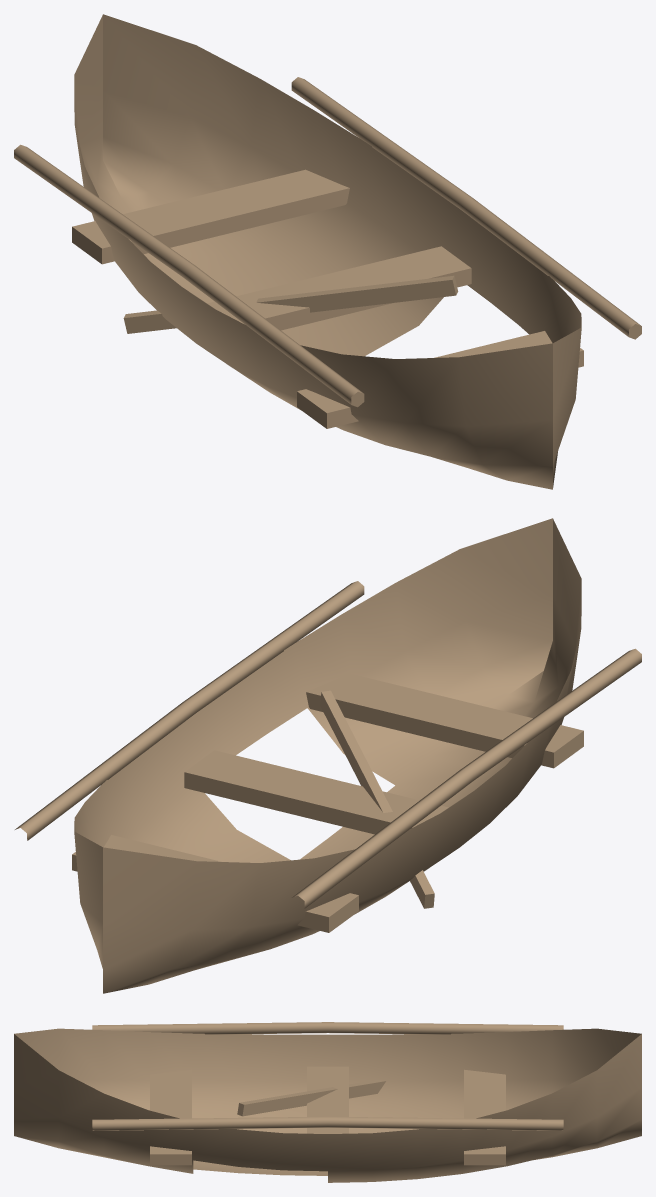
Rendered from boat_damaged.glb.
3 views of the same model, one above another, from view 1: azimuth 30°, elevation 25°; view 2: azimuth 150°, elevation 25°; view 3: azimuth 270°, elevation 25° (orthographic). The views are drawn at different scales.
Parts seen in each view (by area): view 1: Boat; view 2: Boat; view 3: Boat.
Part boxes in pixels (left/top/right/bottom): Boat: left=14, top=14, right=641, bottom=489; Boat: left=15, top=518, right=641, bottom=993; Boat: left=14, top=1022, right=641, bottom=1182.
Bounding box in the file's own units: 1.39 × 0.8295 × 3.6.
